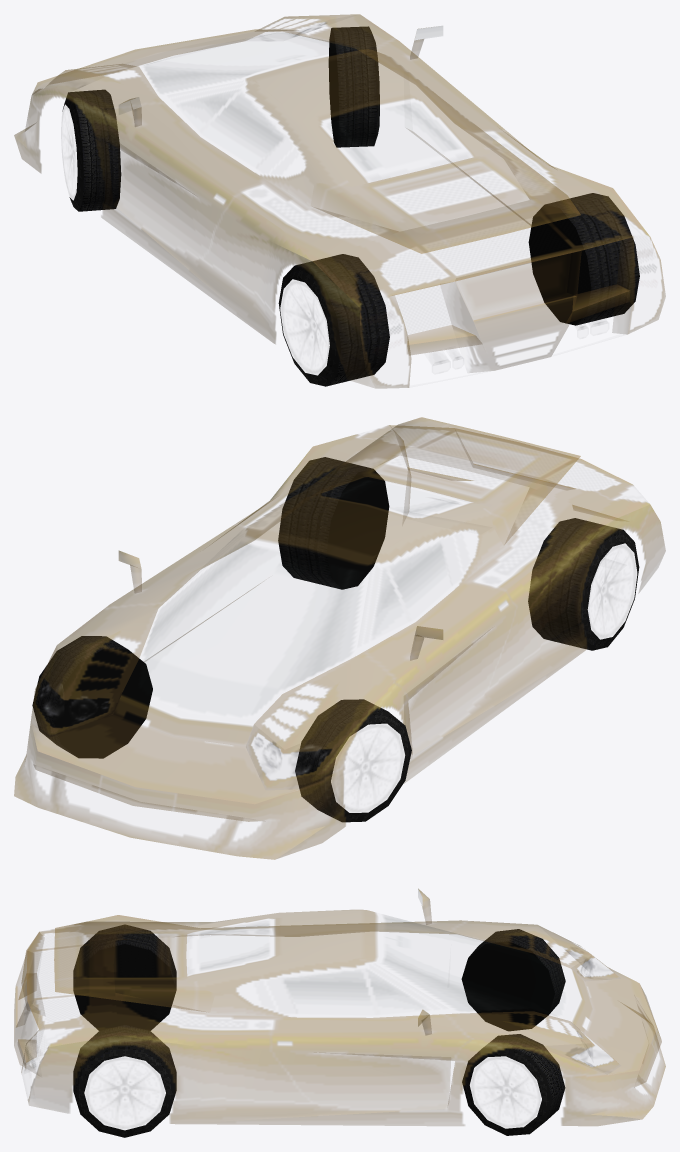
The model's file is B_Engineering_Edonis_GT2_PSX_Style.glb.
3 views of the same model, one above another, from view 1: azimuth 30°, elevation 25°; view 2: azimuth 150°, elevation 25°; view 3: azimuth 270°, elevation 25° (orthographic). The views are drawn at different scales.
Parts seen in each view (by area): view 1: unnamed (×4); view 2: unnamed (×4); view 3: unnamed (×4).
Part boxes in pixels (left/top/right/bottom): unnamed (×4): left=14, top=14, right=665, bottom=388; unnamed (×4): left=14, top=417, right=665, bottom=859; unnamed (×4): left=14, top=889, right=665, bottom=1137.
Bounding box in the file's own units: 0.2096 × 0.1071 × 0.4345.
Materials: 2 (2 with a texture image).
